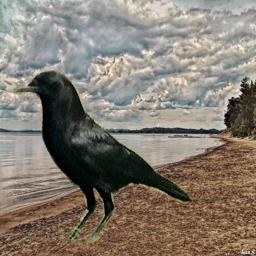Crow: (10, 70, 193, 243)
